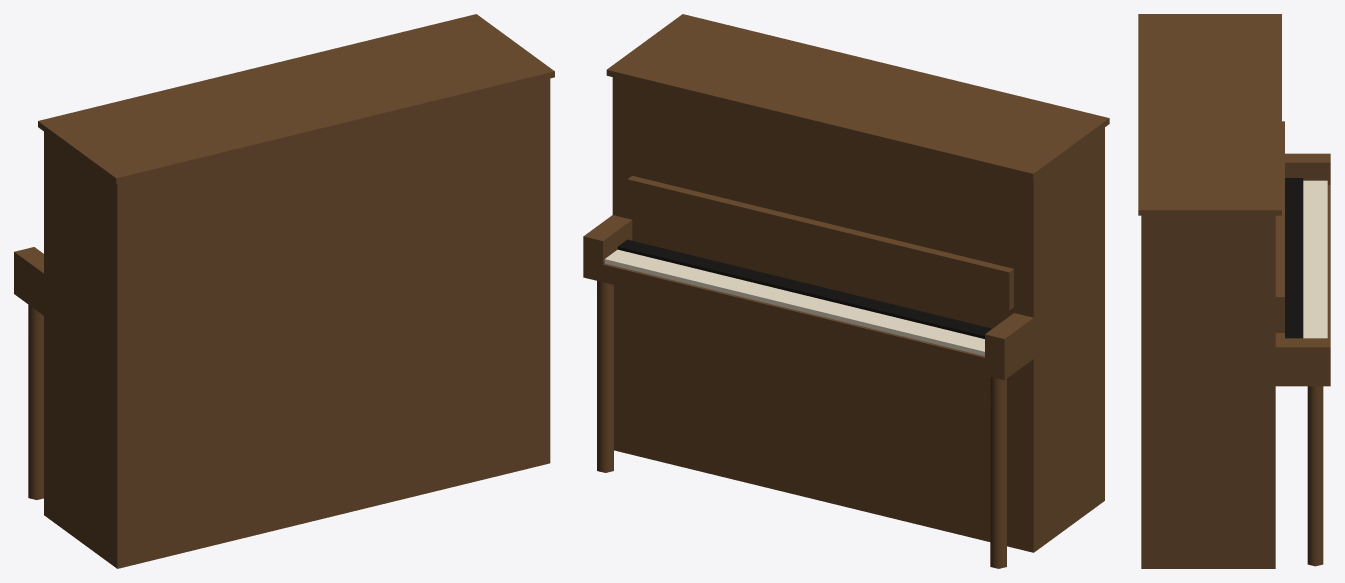
The model's file is parametric-piano-service.glb.
3 views of the same model, side by side, from view 1: azimuth 30°, elevation 25°; view 2: azimuth 150°, elevation 25°; view 3: azimuth 270°, elevation 25° (orthographic). The views are drawn at different scales.
Visible parts, largest first — view 1: parametric-piano-service; view 2: parametric-piano-service; view 3: parametric-piano-service.
Boxes of the visible parts, x1,y1,x2,y2 form: parametric-piano-service: [14, 14, 554, 568]; parametric-piano-service: [583, 14, 1109, 568]; parametric-piano-service: [1138, 14, 1330, 568].
Size of the model in its own units: 1.52 by 1.3 by 0.63.
